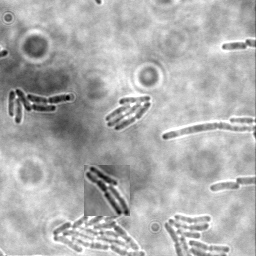Dividing: (161, 123, 255, 142), (221, 41, 248, 52)
Microcolony: (51, 200, 147, 255), (162, 212, 231, 255), (8, 89, 72, 126), (84, 165, 130, 216), (106, 96, 153, 132), (208, 182, 240, 193)
